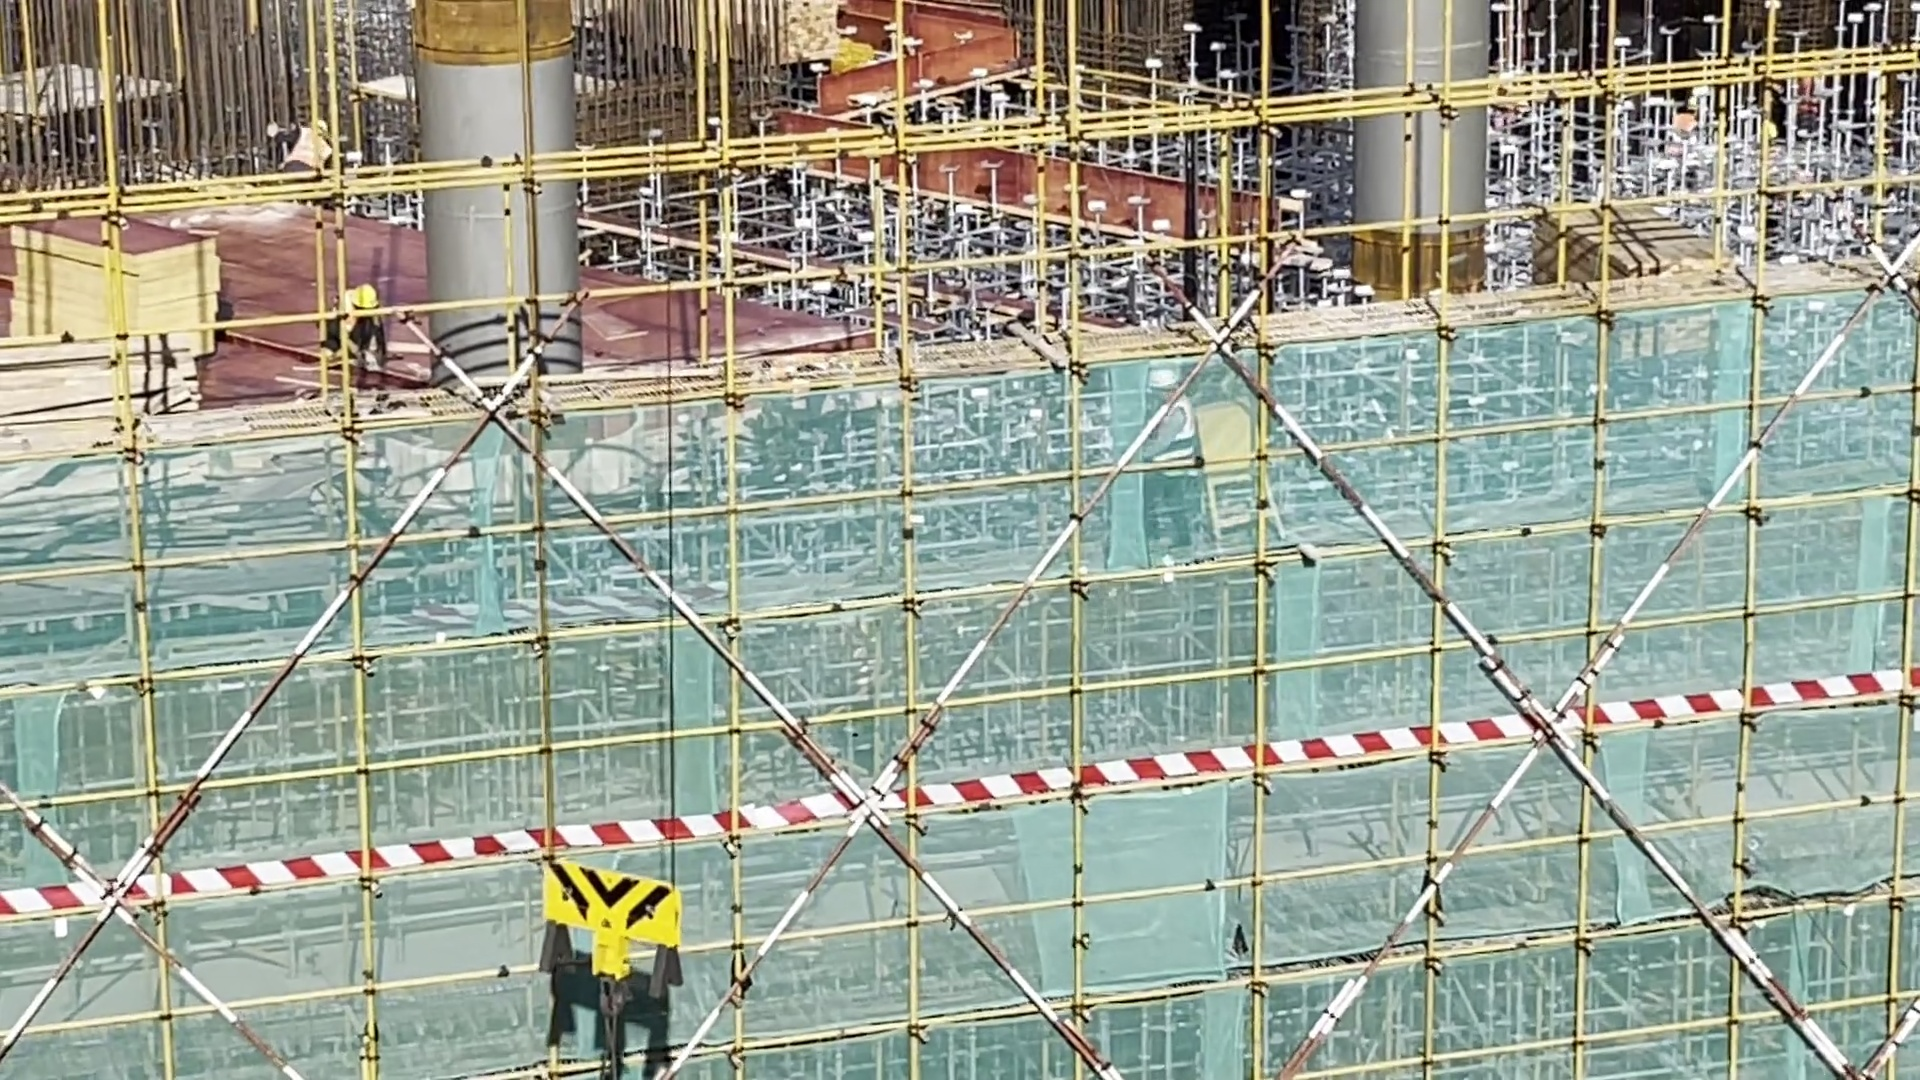board: (12, 208, 220, 360)
hook: (546, 861, 679, 1001)
person: (331, 285, 383, 381)
wood: (1552, 201, 1715, 308)
